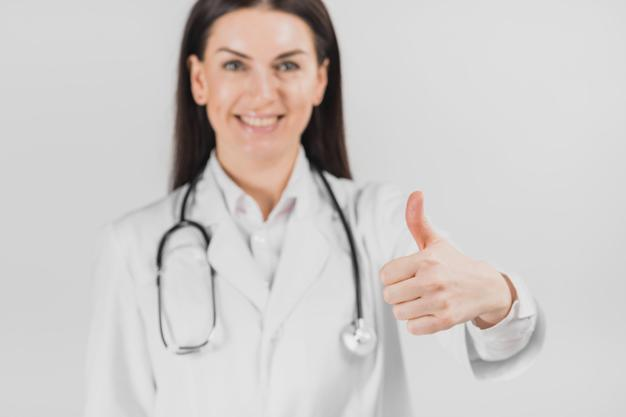thumbsup: (378, 188, 460, 337)
